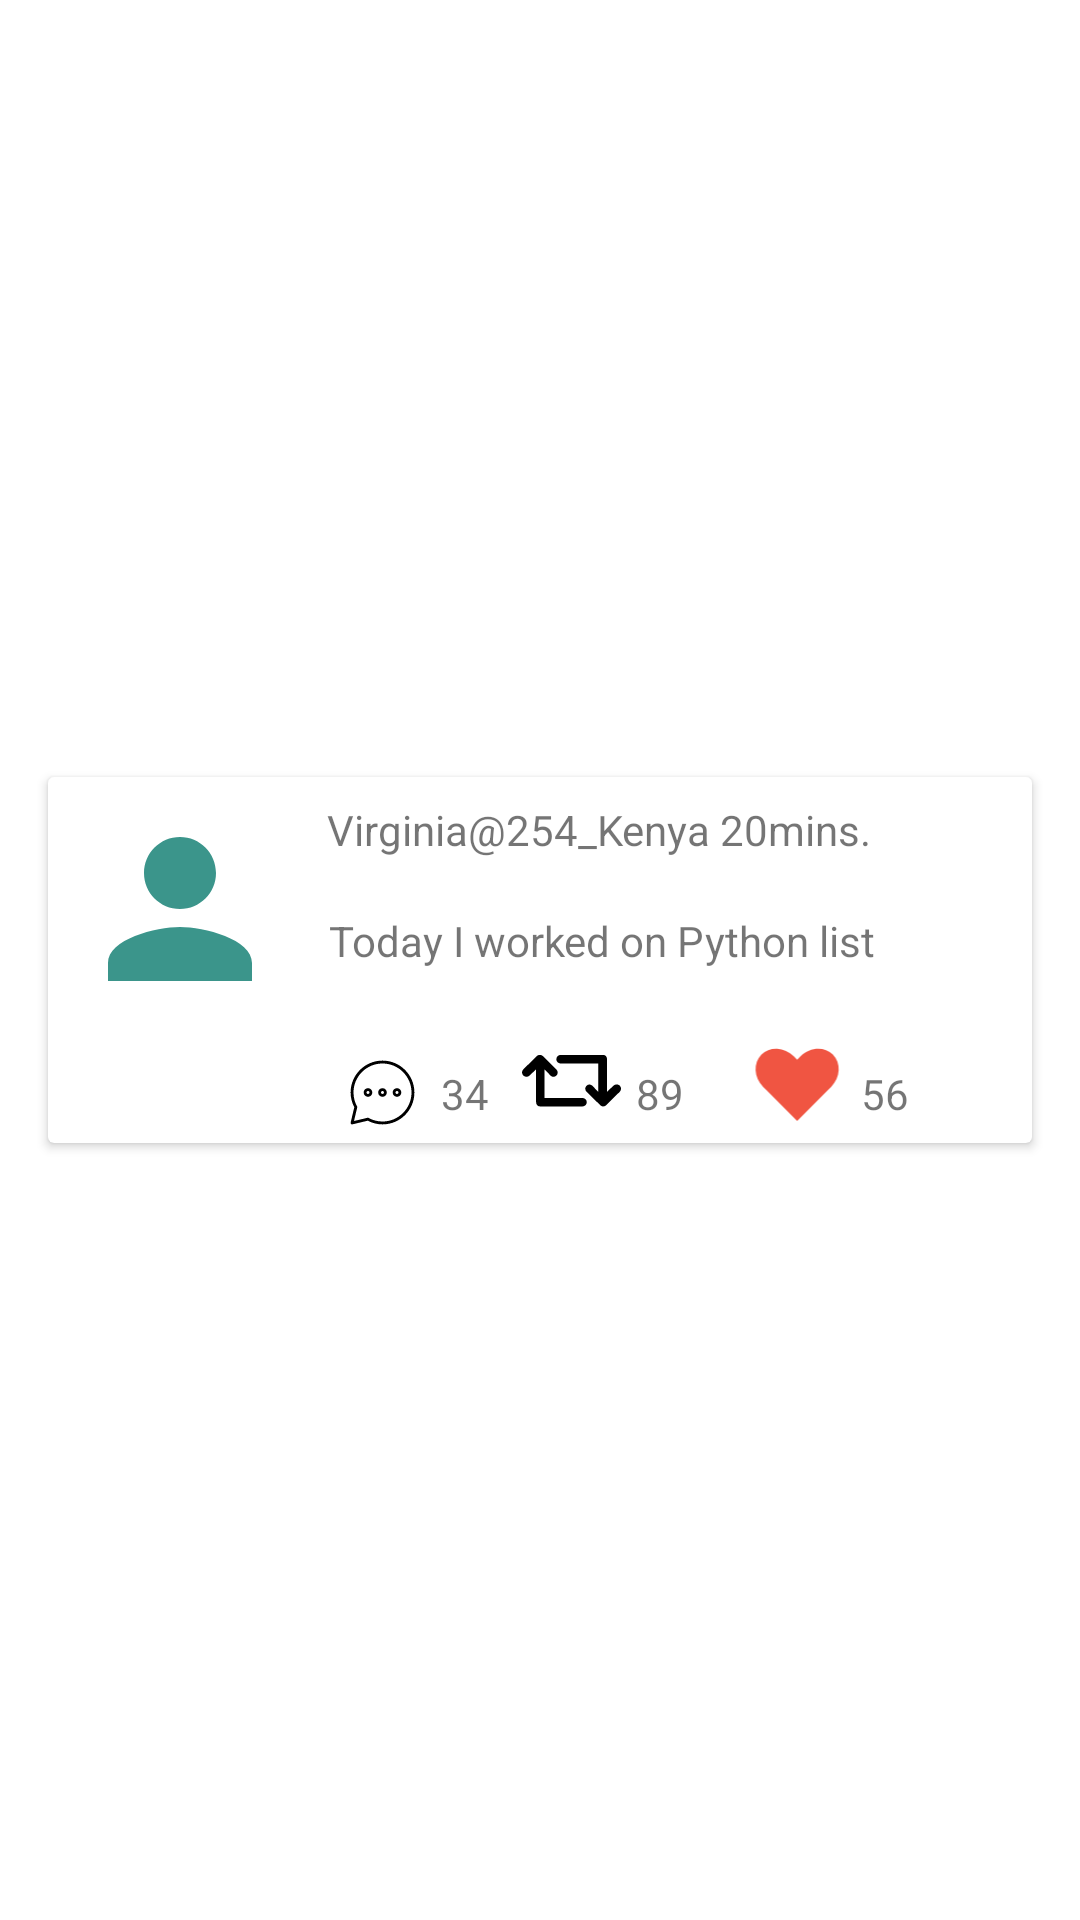

Where icons sit on this 1080 × 1920 app screen, as [x1, y1, x2, y2]:
heart: [755, 1048, 839, 1121]
message: [350, 1060, 415, 1125]
person: [108, 837, 252, 981]
retweet: [522, 1055, 621, 1107]
